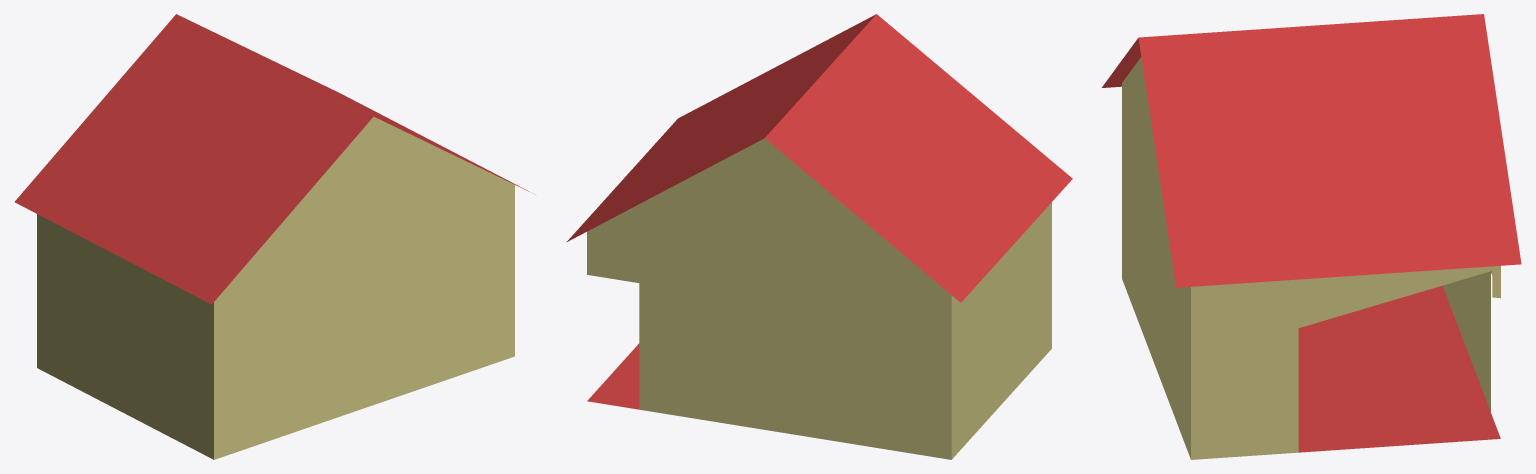
3 views of the same model, side by side, from view 1: azimuth 30°, elevation 25°; view 2: azimuth 150°, elevation 25°; view 3: azimuth 270°, elevation 25° (orthographic). The views are drawn at different scales.
Size of the model in its own units: 21.63 by 17.49 by 15.27.
